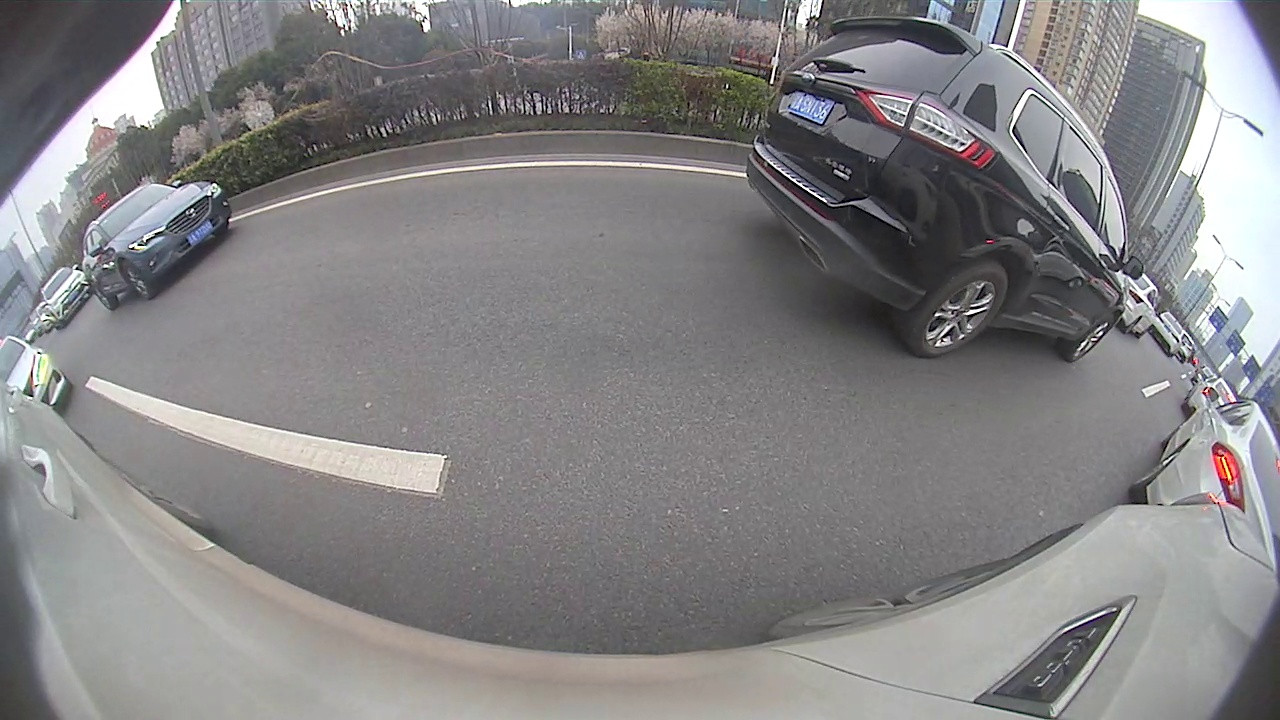car: (744, 13, 1145, 365), (1126, 386, 1279, 574), (80, 179, 232, 313), (37, 263, 91, 331), (1117, 274, 1159, 340), (1154, 312, 1184, 358)
front: (1068, 318, 1115, 360), (120, 263, 153, 299)
rear: (908, 269, 1022, 355)
